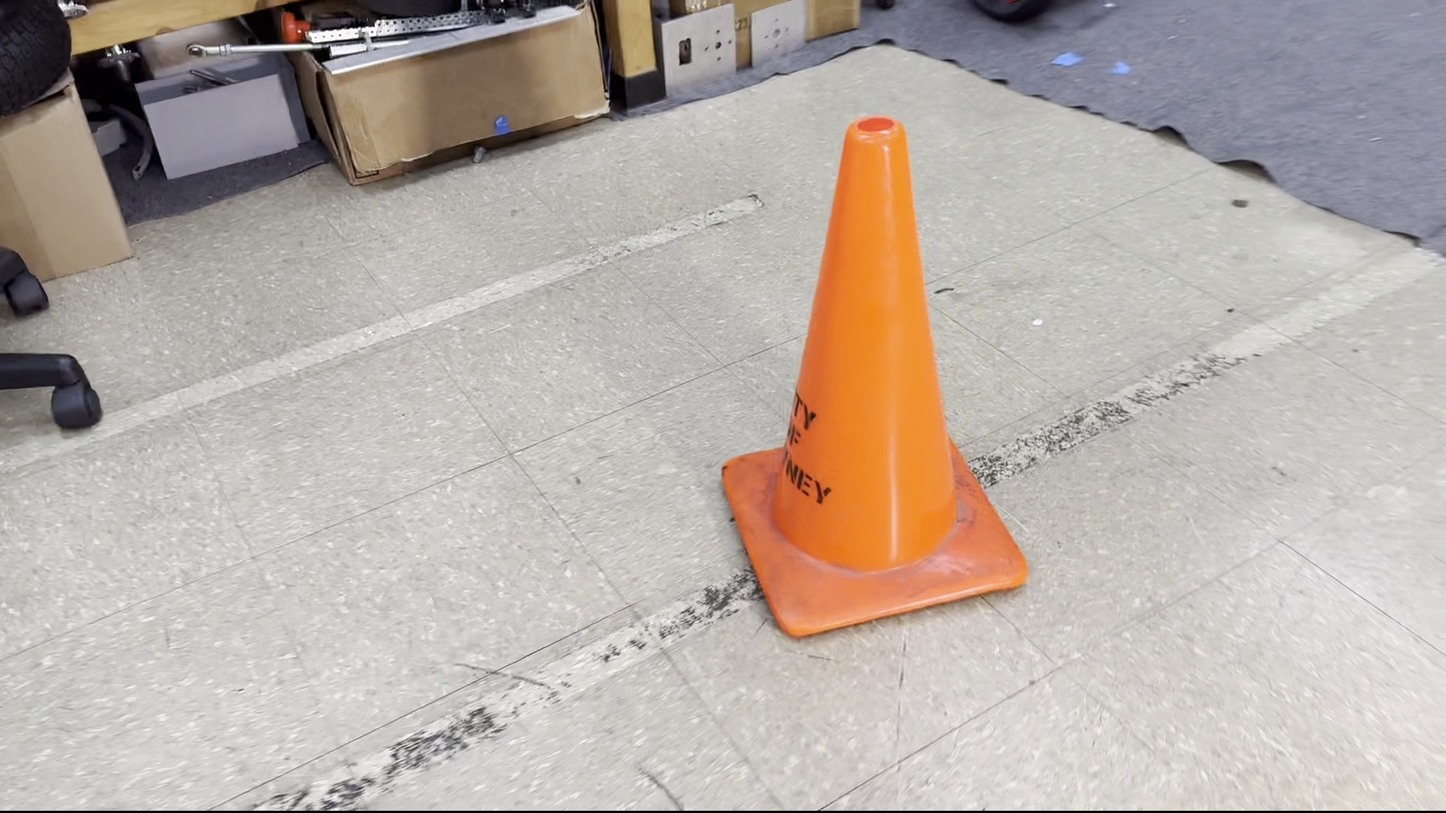traffic_cone: (721, 115, 1030, 640)
